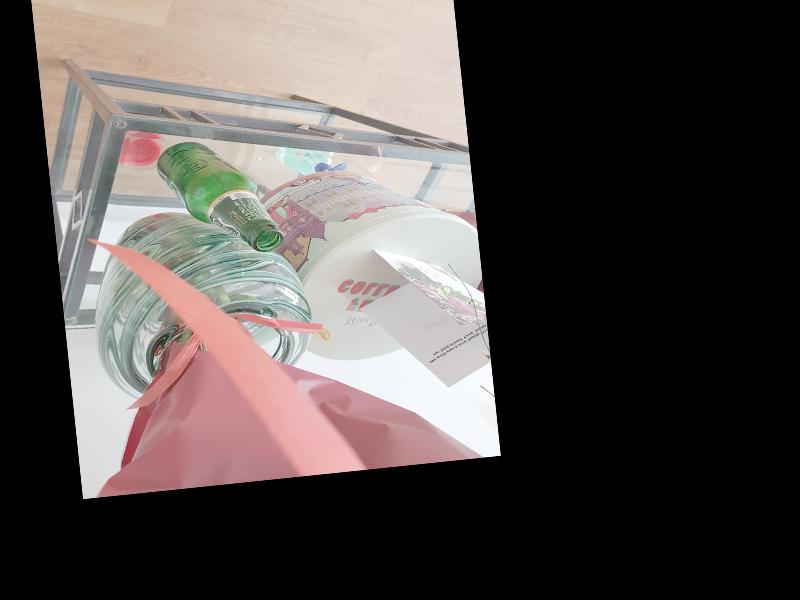Beer: (153, 133, 284, 261)
